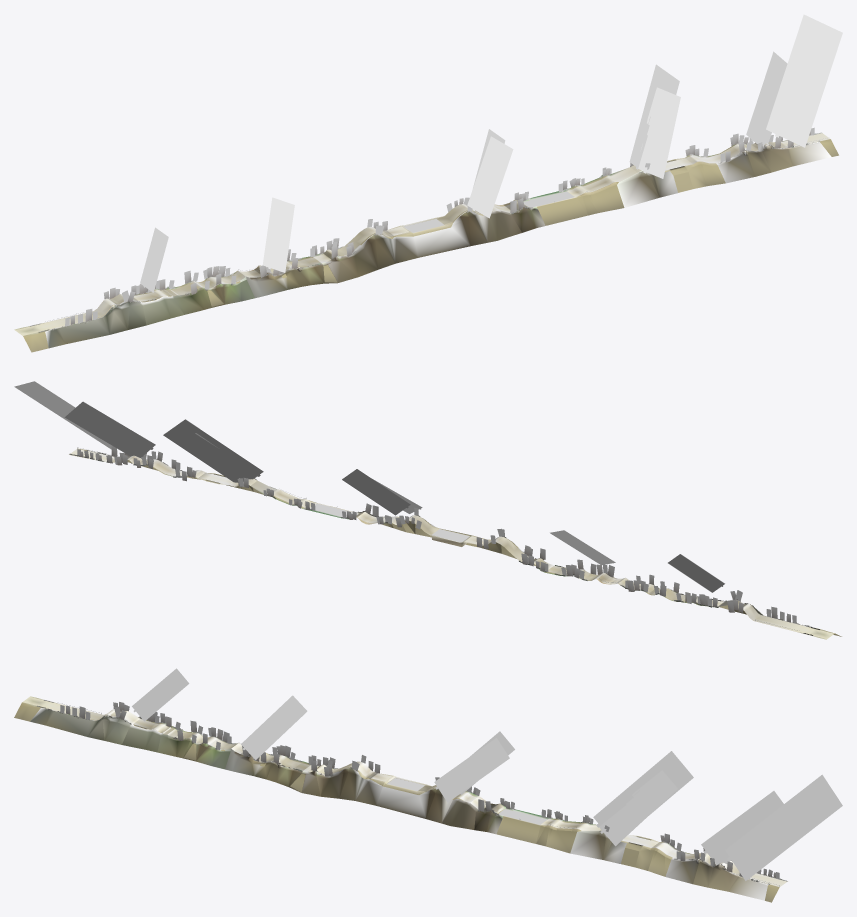
File: Beach_14.fbx
3 renders of one model, top to bottom at view 1: azimuth 30°, elevation 25°; view 2: azimuth 150°, elevation 25°; view 3: azimuth 330°, elevation 25°, orthographic. The views are drawn at different scales.
Visible parts, largest first — view 1: Mountain_01, Light_01, Road_01, Ground_01, Tree_01, Sea_01; view 2: Light_01, Tree_01, Ground_01, Road_01, Sea_01; view 3: Light_01, Mountain_01, Road_01, Tree_01, Ground_01, Sea_01.
Boxes of the visible parts, left/top/right/bottom form: Mountain_01: left=45, top=142, right=831, bottom=348; Light_01: left=140, top=14, right=842, bottom=292; Road_01: left=14, top=133, right=838, bottom=352; Ground_01: left=15, top=133, right=829, bottom=335; Tree_01: left=50, top=127, right=821, bottom=330; Sea_01: left=404, top=191, right=574, bottom=232; Light_01: left=14, top=381, right=724, bottom=592; Tree_01: left=69, top=446, right=811, bottom=626; Ground_01: left=70, top=449, right=834, bottom=638; Road_01: left=69, top=448, right=841, bottom=639; Sea_01: left=310, top=503, right=469, bottom=542; Light_01: left=132, top=668, right=842, bottom=880; Mountain_01: left=30, top=708, right=768, bottom=900; Road_01: left=14, top=696, right=785, bottom=902; Tree_01: left=45, top=702, right=787, bottom=884; Ground_01: left=22, top=697, right=786, bottom=886; Sea_01: left=387, top=778, right=547, bottom=824.
Bounding box in the file's own units: 74472 × 9363 × 6849.
